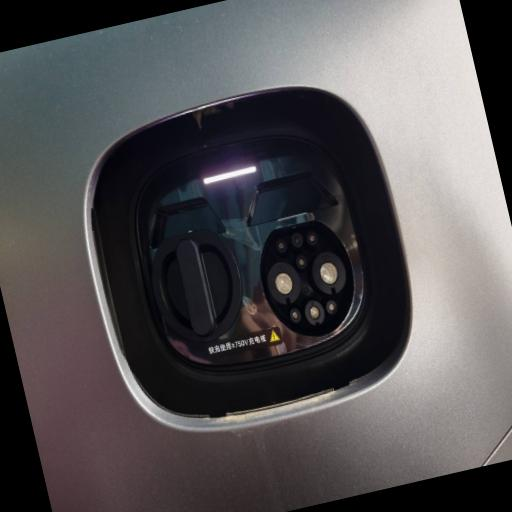DC_hole: (262, 256, 307, 312), (307, 246, 352, 300)
PE: (302, 298, 328, 329)
charging_port: (248, 208, 370, 351)
